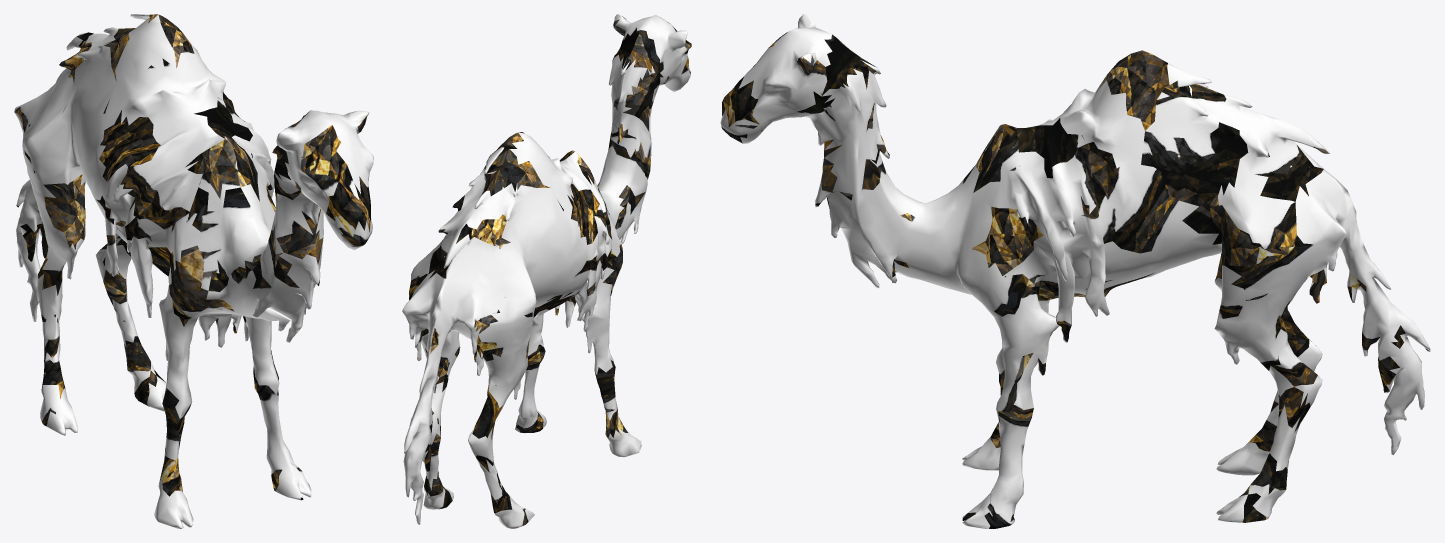
File: dust_camel_gold_10k.fbx
3 views of the same model, side by side, from view 1: azimuth 30°, elevation 25°; view 2: azimuth 150°, elevation 25°; view 3: azimuth 270°, elevation 25° (orthographic). The views are drawn at different scales.
Parts seen in each view (by area): view 1: dust_camel_gold_decimated; view 2: dust_camel_gold_decimated; view 3: dust_camel_gold_decimated.
Boxes of the visible parts, <box> form: dust_camel_gold_decimated: <box>14,14,373,528</box>; dust_camel_gold_decimated: <box>402,14,691,528</box>; dust_camel_gold_decimated: <box>720,14,1430,528</box>.
Size of the model in its own units: 0.4972 by 1.37 by 1.91.
